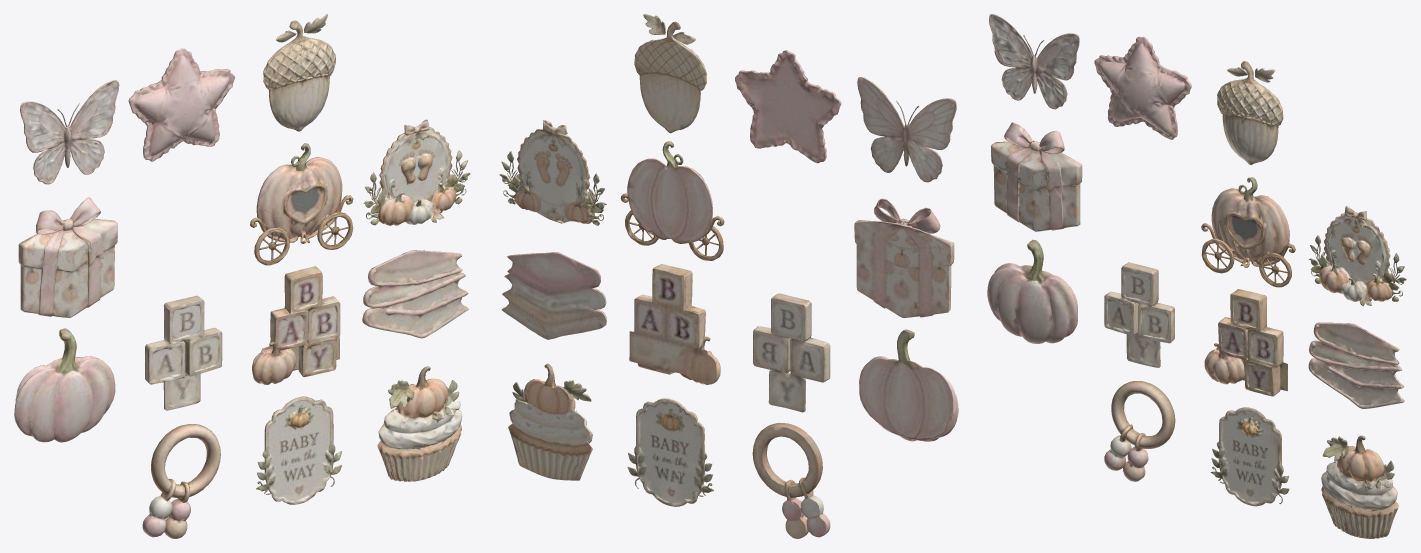
3 renders of one model, left to right at view 1: azimuth 30°, elevation 25°; view 2: azimuth 150°, elevation 25°; view 3: azimuth 330°, elevation 25°, orthographic. The views are drawn at different scales.
Parts seen in each view (by area): view 1: Mesh 4, Mesh 11, Mesh 18, Mesh 1, Mesh 17, Mesh 19, Mesh 12, Mesh 6, Mesh 13, Mesh 9, Mesh 3, Mesh 16 (+1 smaller); view 2: Mesh 4, Mesh 12, Mesh 17, Mesh 11, Mesh 19, Mesh 6, Mesh 18, Mesh 1, Mesh 13, Mesh 9, Mesh 3, Mesh 16 (+1 smaller); view 3: Mesh 4, Mesh 11, Mesh 17, Mesh 18, Mesh 19, Mesh 1, Mesh 12, Mesh 6, Mesh 13, Mesh 9, Mesh 3, Mesh 16 (+1 smaller).
Boxes of the visible parts, left/top/right/bottom form: Mesh 4: left=18, top=197, right=117, bottom=317; Mesh 11: left=250, top=143, right=353, bottom=265; Mesh 18: left=363, top=119, right=470, bottom=225; Mesh 1: left=14, top=328, right=115, bottom=442; Mesh 17: left=362, top=250, right=468, bottom=338; Mesh 19: left=377, top=366, right=462, bottom=481; Mesh 12: left=252, top=266, right=340, bottom=384; Mesh 6: left=128, top=48, right=234, bottom=161; Mesh 13: left=256, top=396, right=341, bottom=504; Mesh 9: left=145, top=295, right=222, bottom=410; Mesh 3: left=20, top=80, right=119, bottom=184; Mesh 16: left=263, top=14, right=335, bottom=131; Mesh 4: left=854, top=198, right=954, bottom=318; Mesh 12: left=629, top=264, right=720, bottom=384; Mesh 17: left=501, top=252, right=606, bottom=339; Mesh 11: left=620, top=141, right=724, bottom=260; Mesh 19: left=508, top=363, right=592, bottom=480; Mesh 6: left=735, top=50, right=841, bottom=163; Mesh 18: left=499, top=120, right=606, bottom=225; Mesh 1: left=859, top=329, right=958, bottom=441; Mesh 13: left=627, top=398, right=713, bottom=506; Mesh 9: left=753, top=293, right=830, bottom=412; Mesh 3: left=857, top=77, right=956, bottom=182; Mesh 16: left=634, top=14, right=706, bottom=133; Mesh 4: left=991, top=122, right=1082, bottom=231; Mesh 11: left=1201, top=177, right=1295, bottom=287; Mesh 17: left=1308, top=322, right=1404, bottom=408; Mesh 18: left=1308, top=205, right=1406, bottom=306; Mesh 19: left=1321, top=435, right=1398, bottom=538; Mesh 1: left=987, top=239, right=1077, bottom=343; Mesh 12: left=1204, top=289, right=1287, bottom=396; Mesh 6: left=1094, top=36, right=1191, bottom=139; Mesh 13: left=1210, top=407, right=1289, bottom=506; Mesh 9: left=1104, top=262, right=1174, bottom=367; Mesh 3: left=989, top=14, right=1079, bottom=109; Mesh 16: left=1217, top=61, right=1283, bottom=165.
Bounding box in the file's own units: 1.86 × 1.9 × 0.0675.
Materials: 13 (13 with a texture image).
